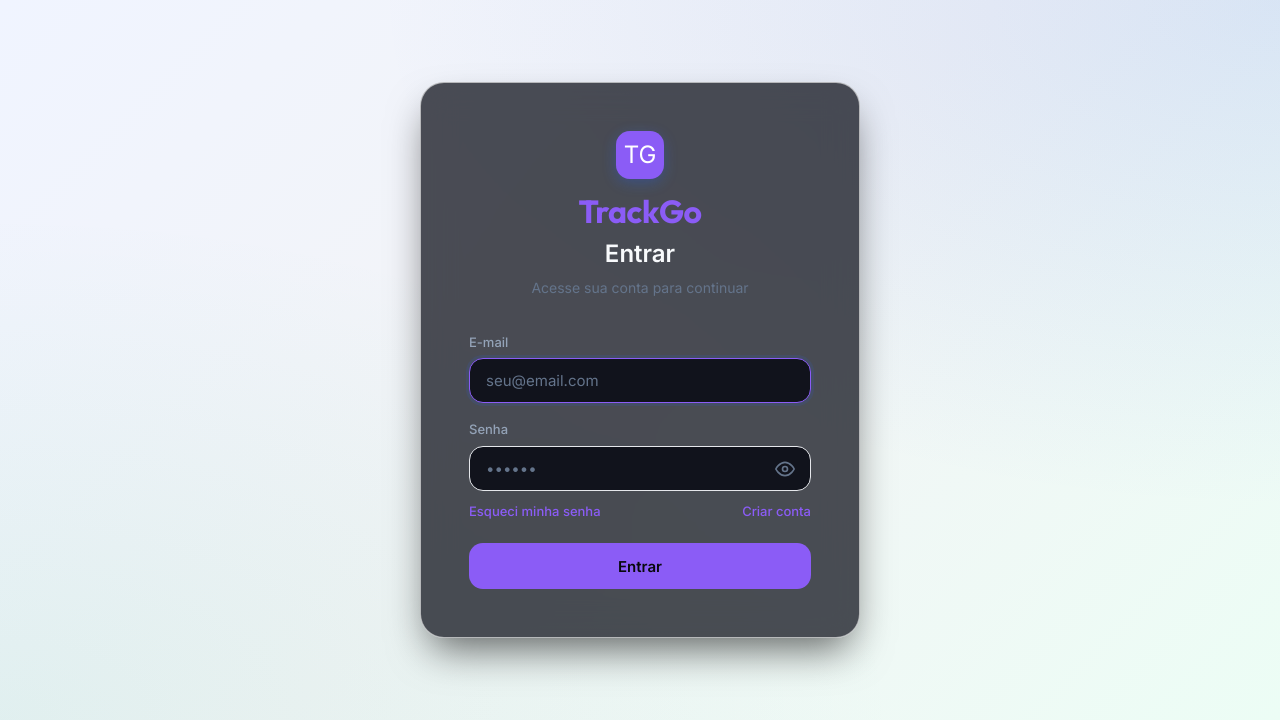
Test: TrackGo - Fluxos Operacionais E2E (Login e Rotas) › Deve mostrar mensagem de erro com credenciais inválidas
Type "fake@email.com" into the field labelled "E-mail" at (640,381), box [469, 358, 811, 403]
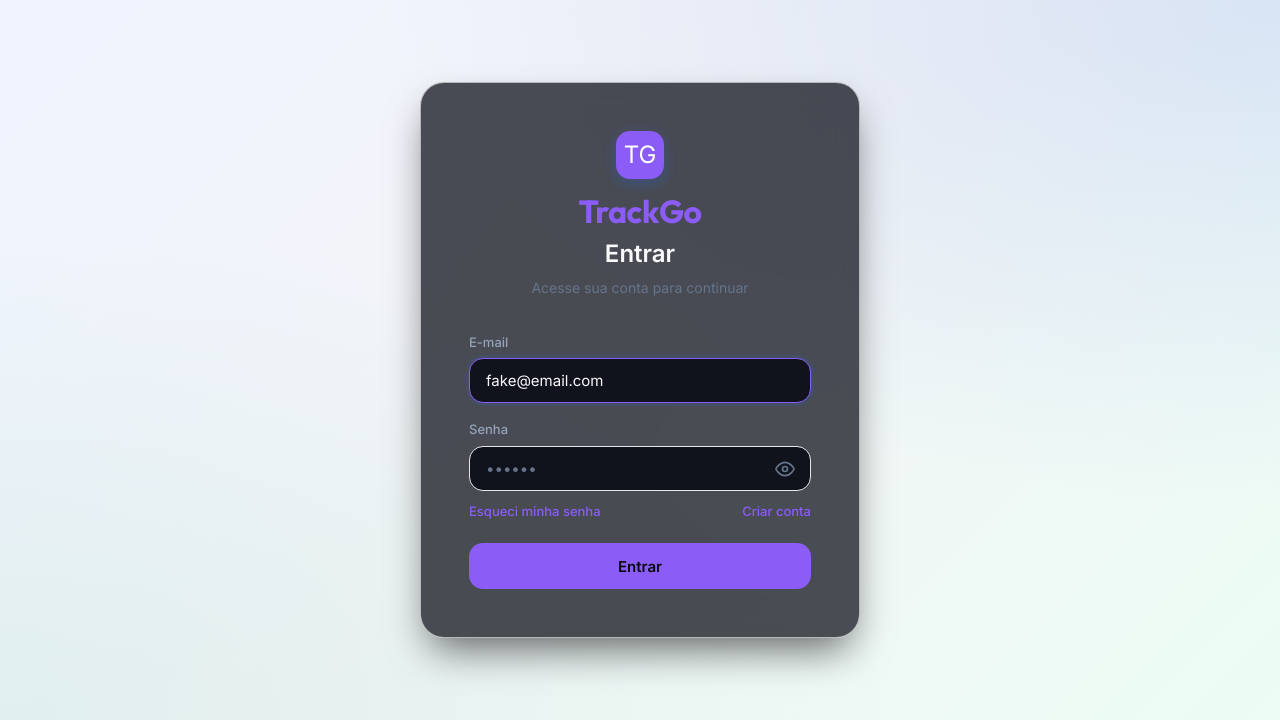
Type "111111" into the password field labelled "Senha" at (640,469), box [469, 446, 811, 491]
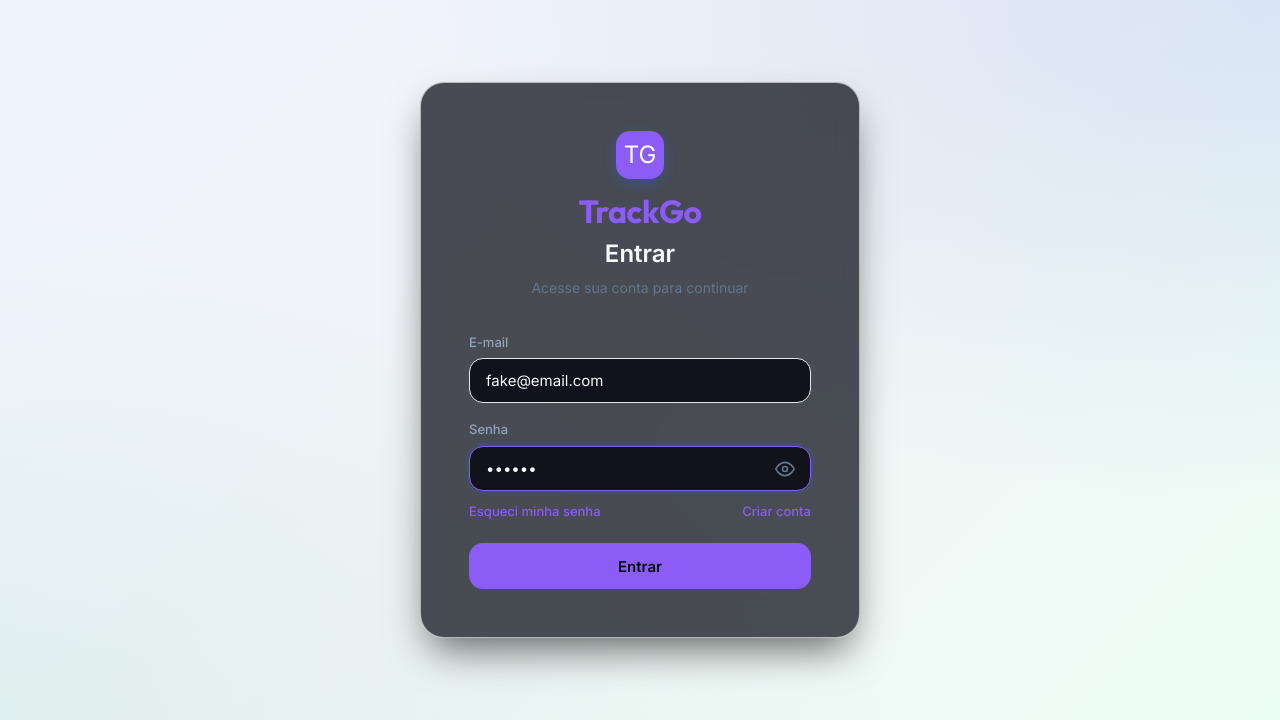
Click the submit button at (640,566), box [469, 543, 811, 589]
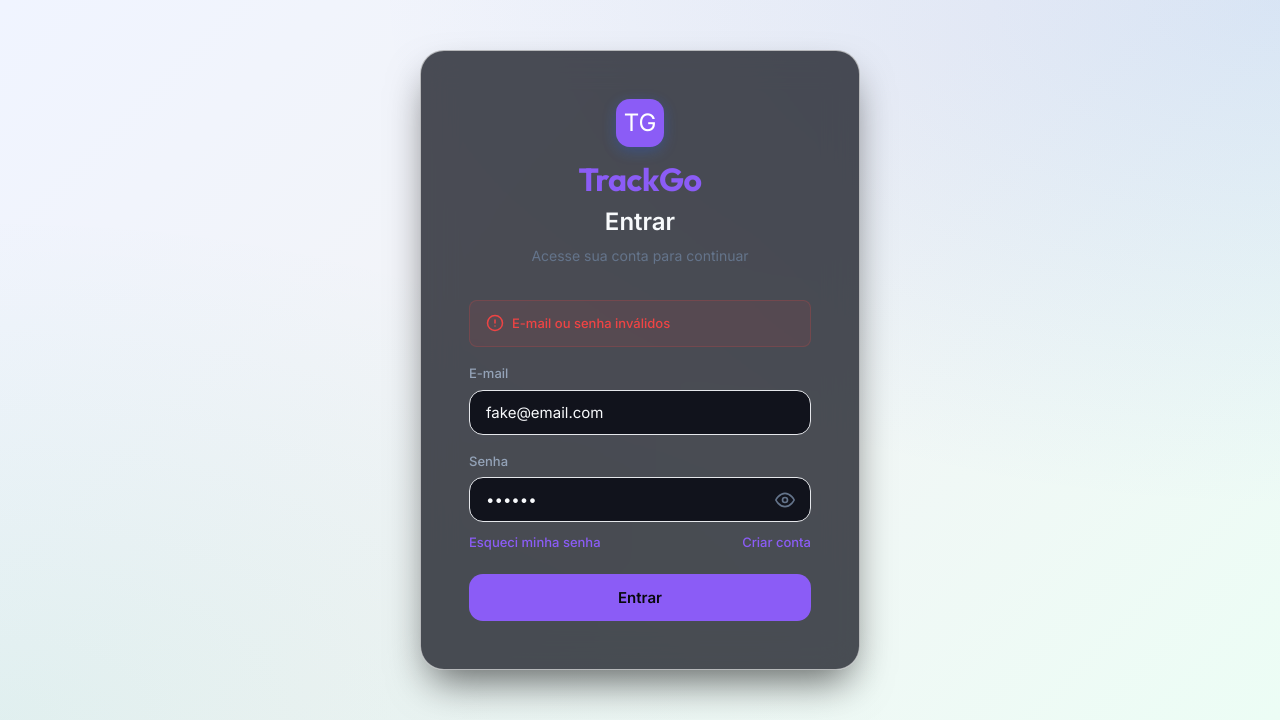
Now the text "E-mail ou senha inválidos" is shown, box [512, 313, 670, 334]
